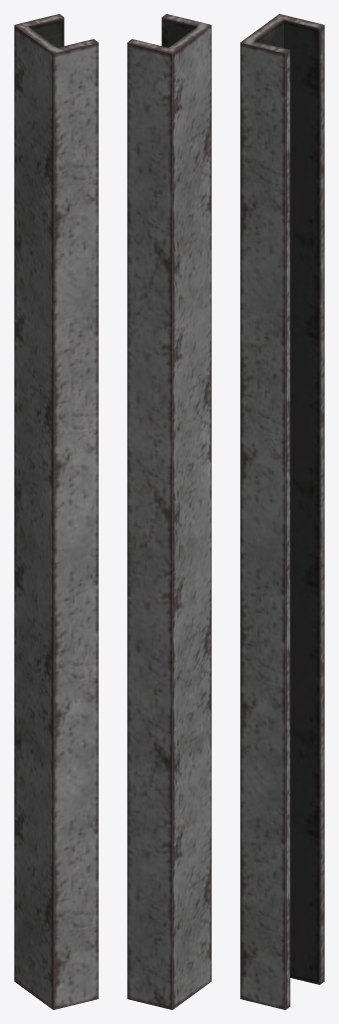
File: Profile2_g.gltf
3 views of the same model, side by side, from view 1: azimuth 30°, elevation 25°; view 2: azimuth 150°, elevation 25°; view 3: azimuth 330°, elevation 25° (orthographic).
Visible parts, largest first — view 1: Channel002; view 2: Channel002; view 3: Channel002.
Boxes of the visible parts, box(x1,y1,x2,y2) form: Channel002: box(14, 14, 98, 1009); Channel002: box(127, 14, 211, 1009); Channel002: box(240, 14, 324, 1009).
Size of the model in its own units: 0.1 by 2 by 0.15.
1 material, 1 textured.
